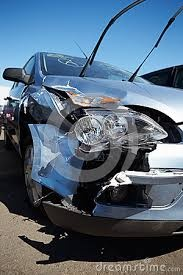Broken-glass: (65, 110, 168, 148)
Smashed: (21, 84, 164, 222)
